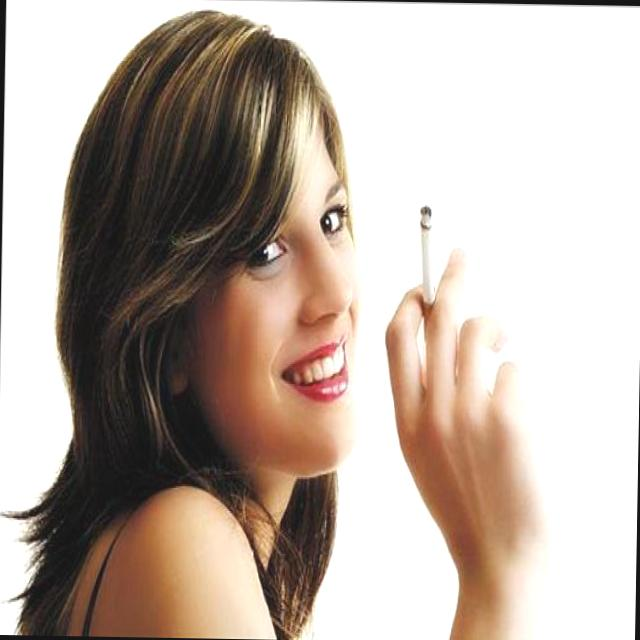smoke: (412, 199, 440, 347)
